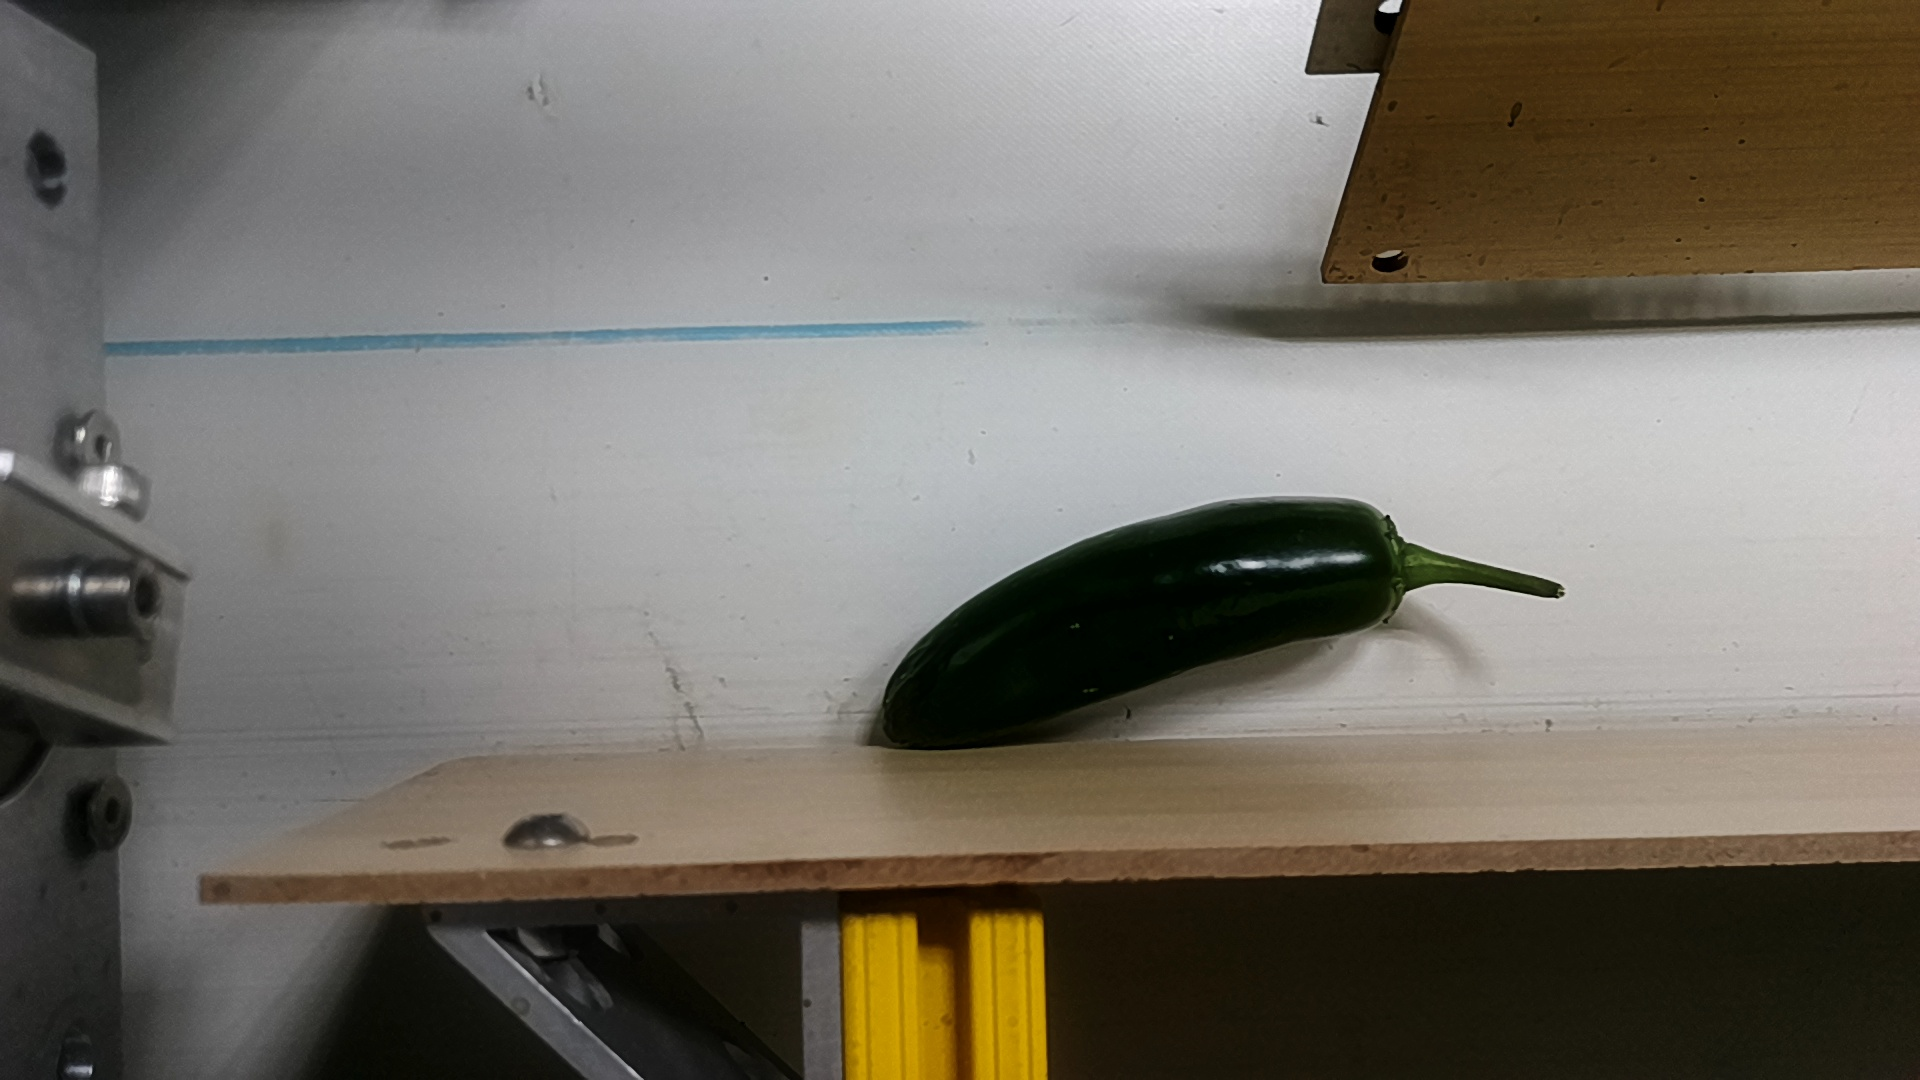Cut Point: (1335, 489, 1439, 640)
